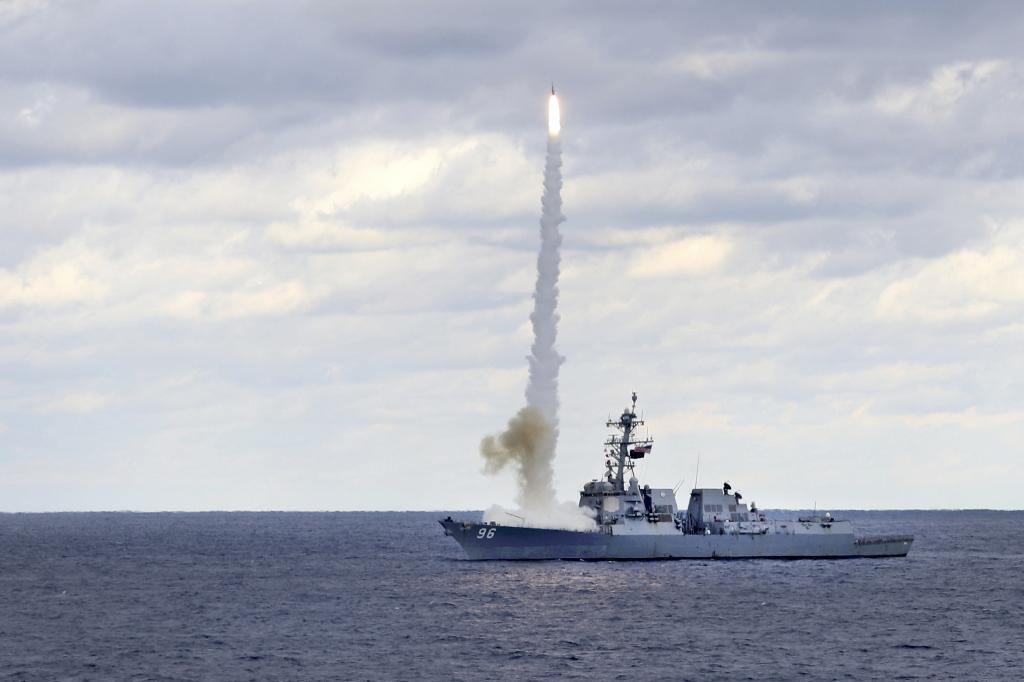Warship: (430, 376, 924, 570)
